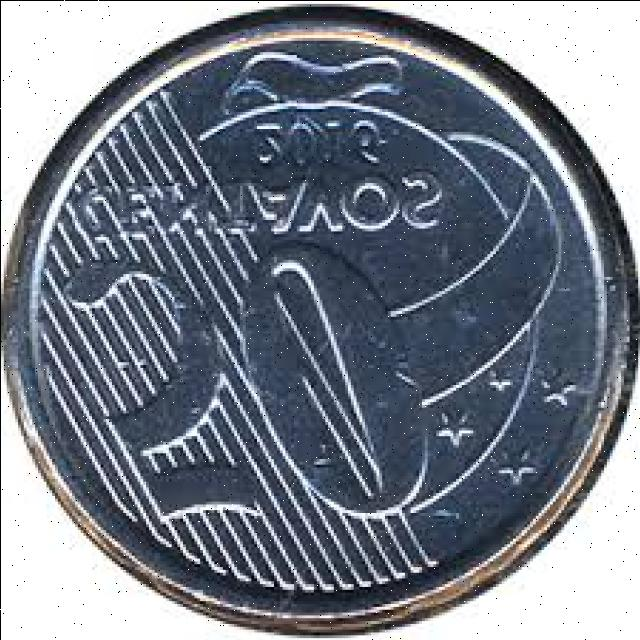50 cent: (0, 16, 640, 632)
